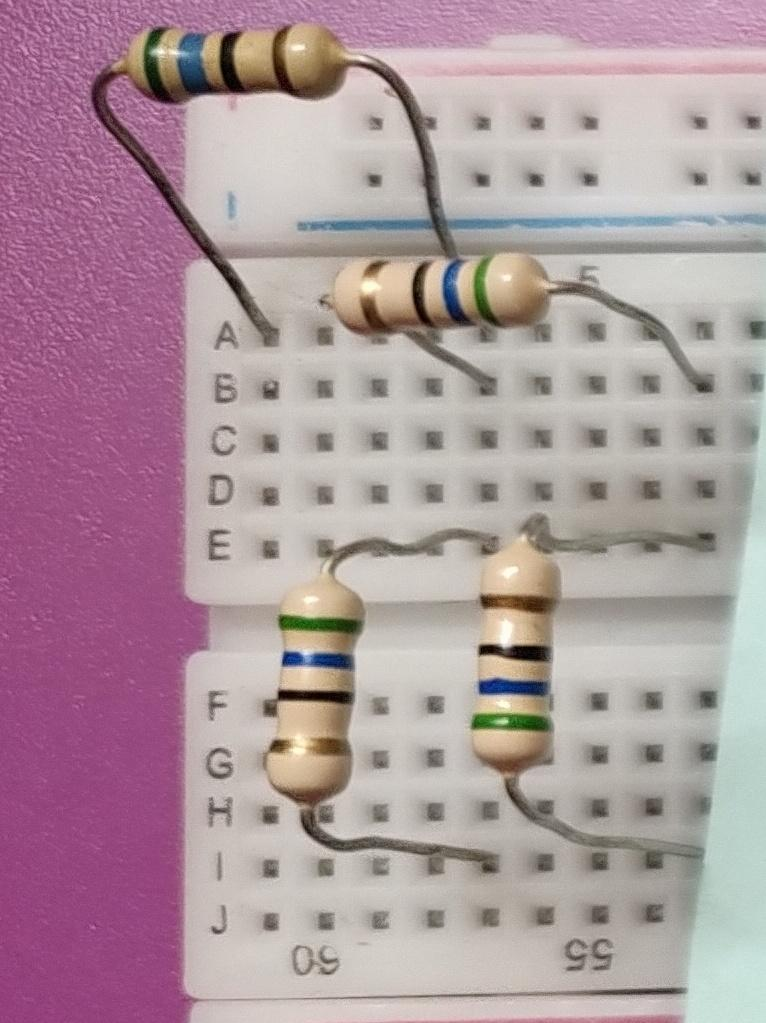resistor: (317, 238, 560, 350), (258, 558, 365, 808), (468, 522, 558, 785), (122, 13, 362, 108)
